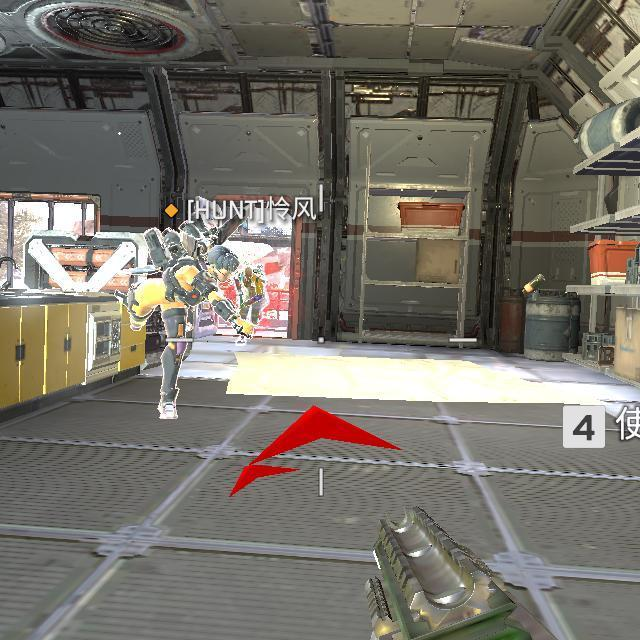avatar: (124, 216, 240, 424), (232, 264, 272, 326)
